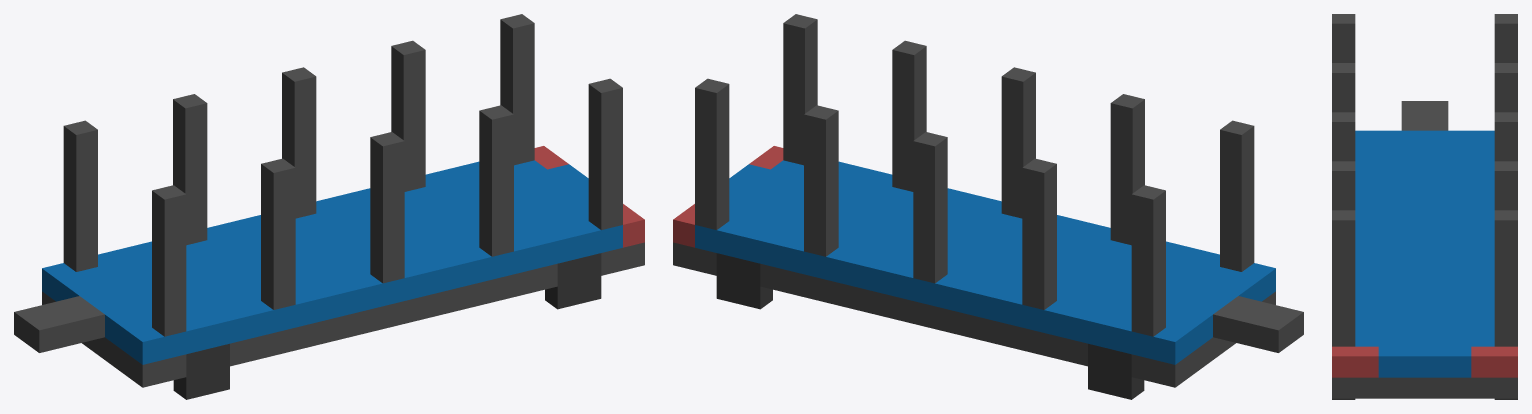
File: tractor-trailer-v3-blue.gltf
The picture shows the model from 3 angles, left to right: view 1: azimuth 30°, elevation 25°; view 2: azimuth 150°, elevation 25°; view 3: azimuth 270°, elevation 25°; orthographic projection. The views are drawn at different scales.
Parts seen in each view (by area): view 1: model, wheels; view 2: model, wheels; view 3: model.
Boxes of the visible parts, x1,y1,x2,y2 form: model: (14,14,644,399); wheels: (173,253,601,399); model: (673,14,1303,399); wheels: (716,253,1144,399); model: (1332,14,1517,399).
Bounding box in the file's own units: 2.6 × 0.9 × 0.8.
2 materials, 2 textured.
